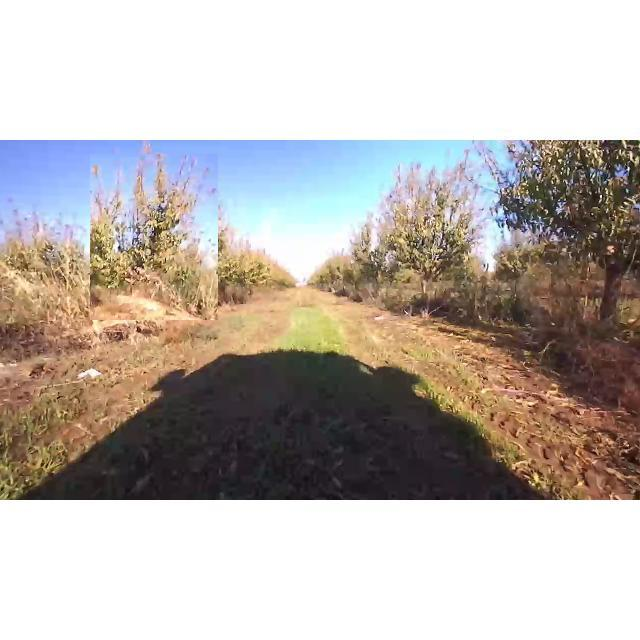direk: (496, 142, 640, 344), (352, 152, 488, 318), (90, 154, 218, 320)
